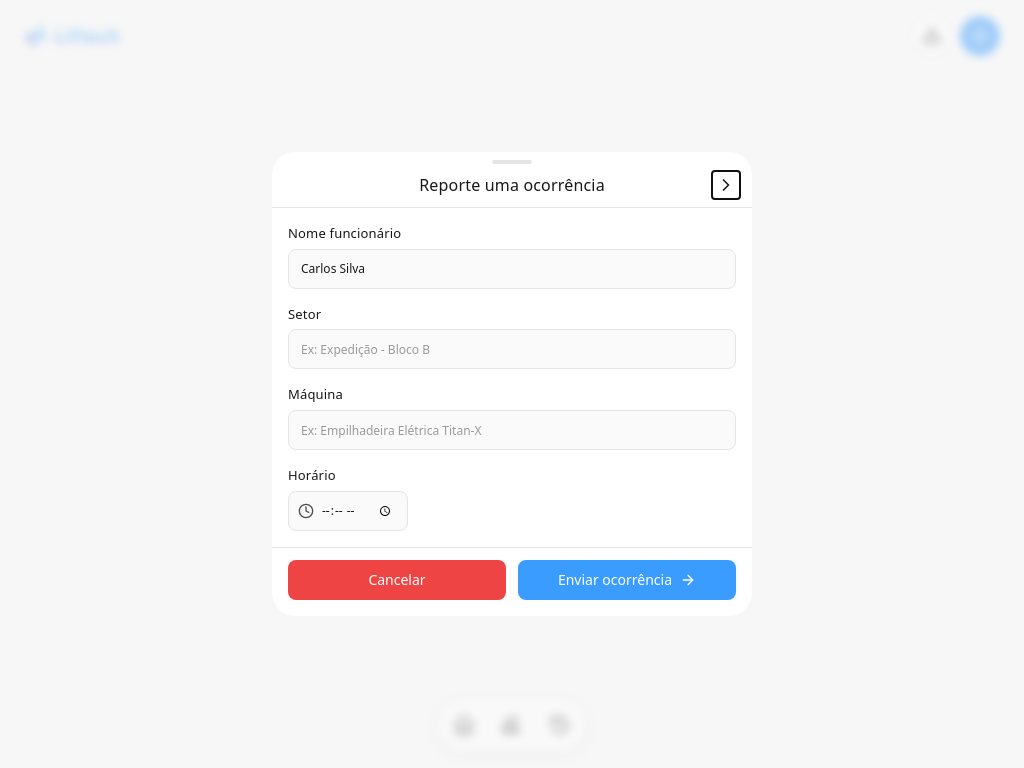
Incident route › opens the sheet and a valid submit goes back keeping the toast
Expected: the dialog "Reporte uma ocorrência" is shown, [272,152,752,616]
Replace the text in the field labelled "Nome funcionário" with "Maria" at coordinates (512, 269), box [288,249,736,289]
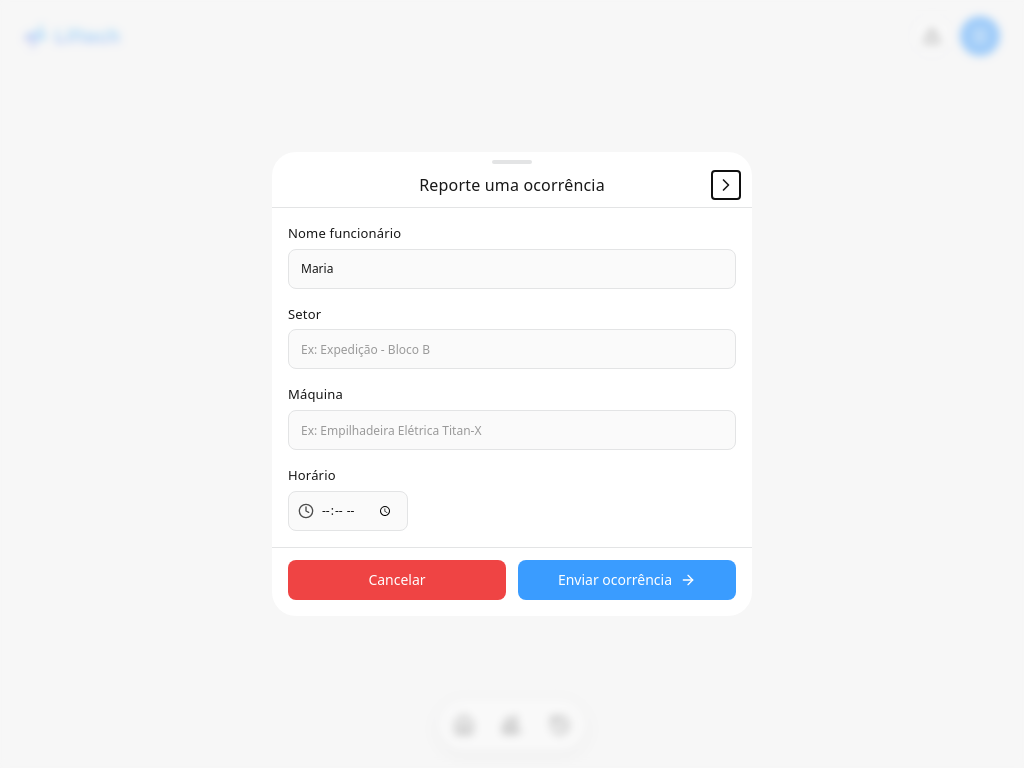
Type "Expedição" into the field labelled "Setor" at coordinates (512, 349), box [288,329,736,369]
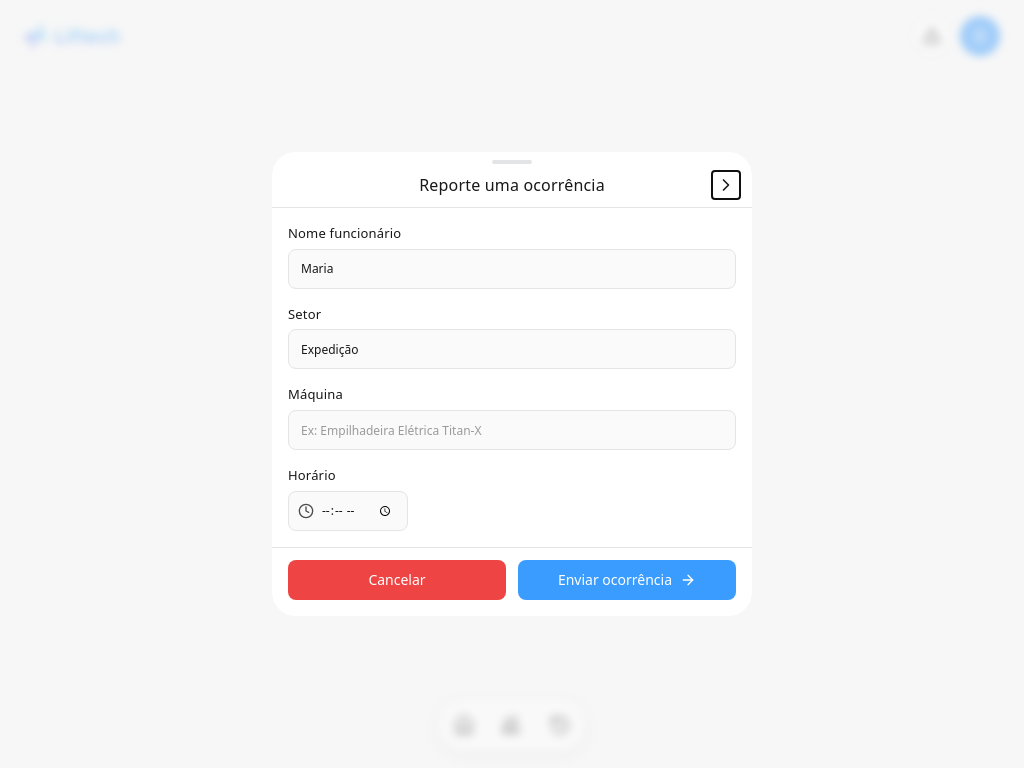
Type "Titan-X" into the field labelled "Máquina" at coordinates (512, 430), box [288,410,736,450]
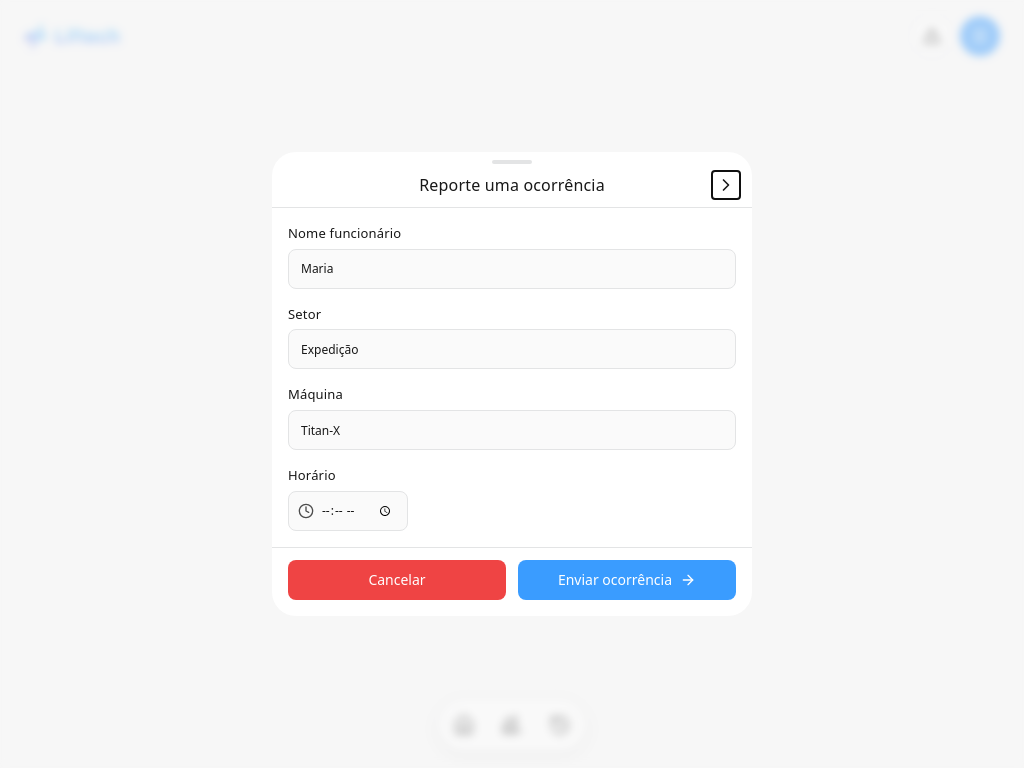
Type "14:30" into the time field labelled "Horário" at coordinates (348, 511), box [288,491,408,531]
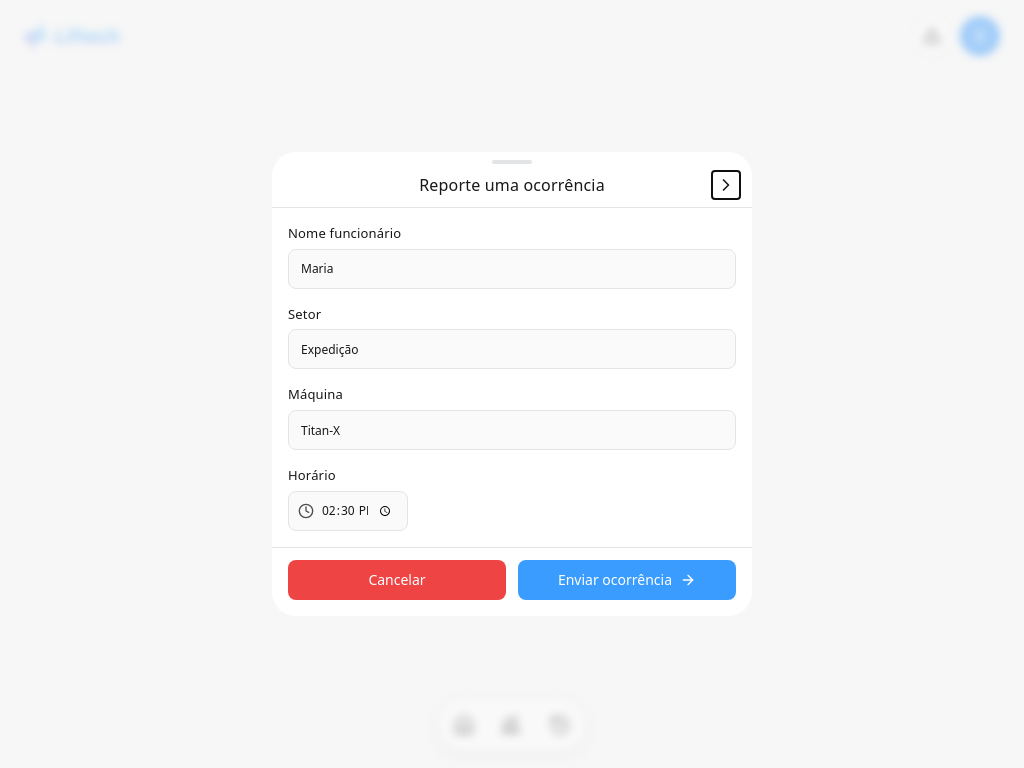
Click the button "Enviar ocorrência" at coordinates (627, 580), box [518,560,736,600]
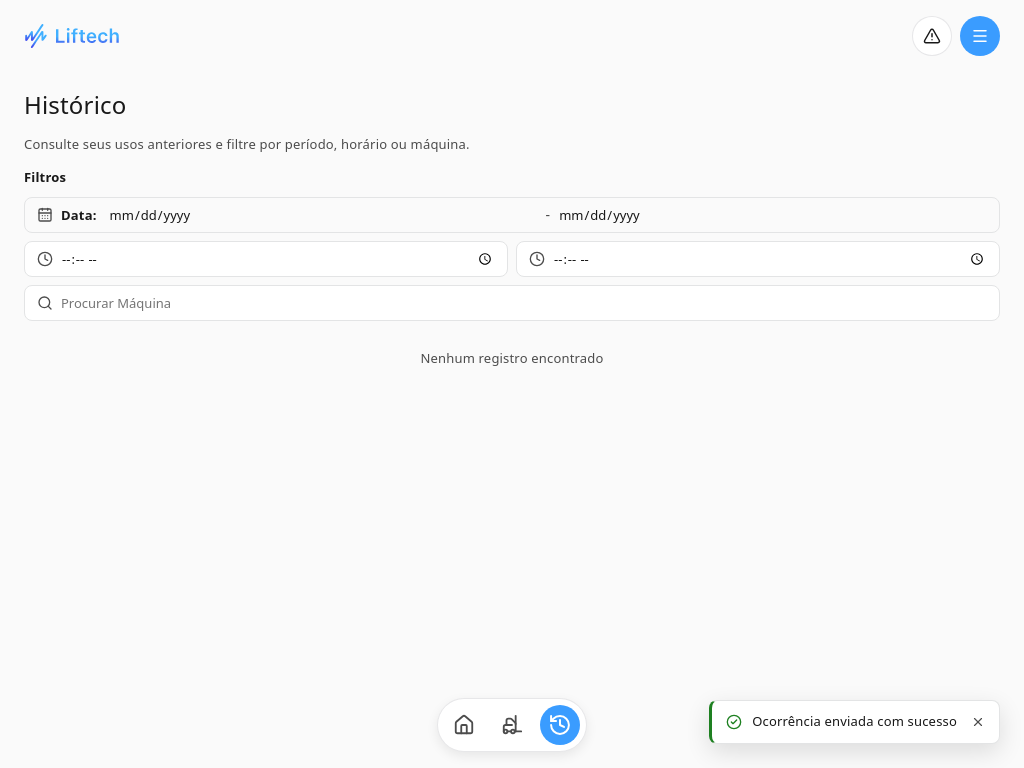
Expected: the dialog is gone
Expected: the text "Ocorrência enviada com sucesso" is shown, [752,713,957,731]
